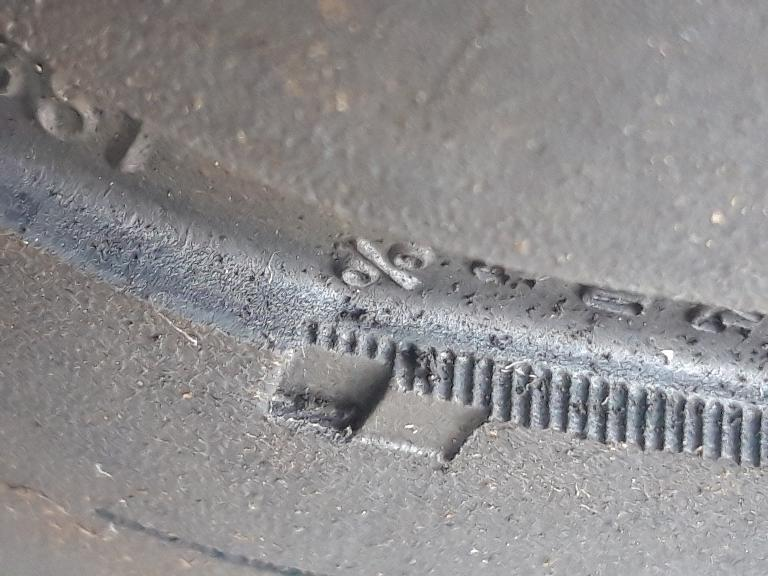temoin:25: (250, 305, 515, 480)
